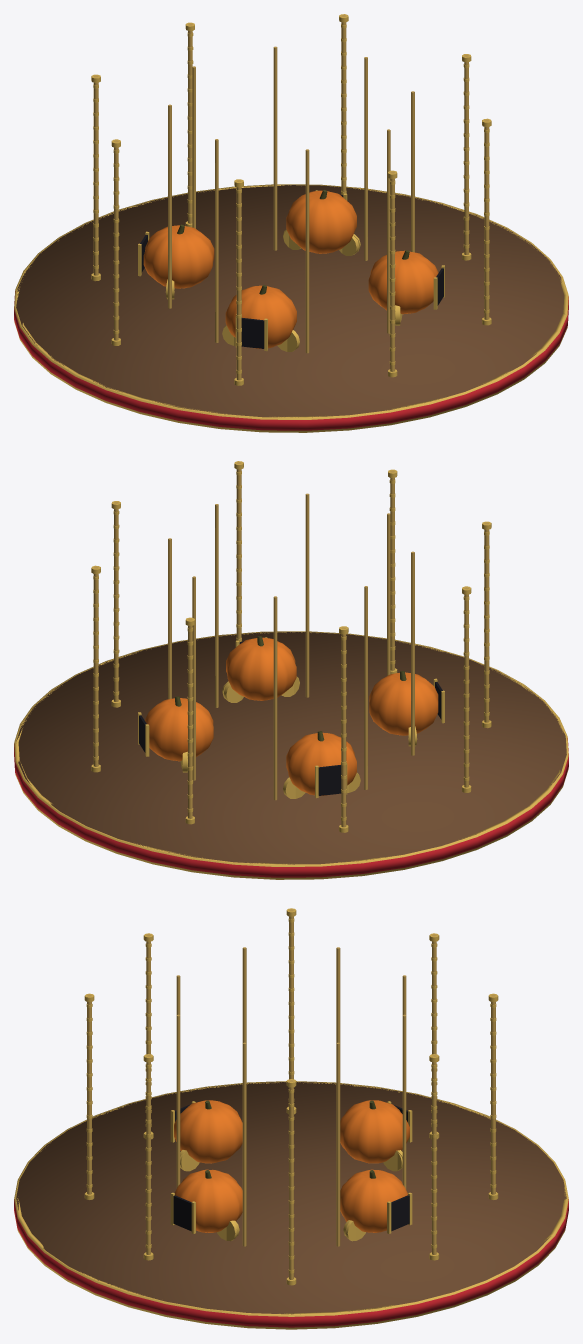
The model's file is hg-carousel-ride.glb.
3 renders of one model, top to bottom at view 1: azimuth 30°, elevation 25°; view 2: azimuth 150°, elevation 25°; view 3: azimuth 270°, elevation 25°, orthographic.
Visible parts, largest first — view 1: hg-carousel-ride; view 2: hg-carousel-ride; view 3: hg-carousel-ride.
Part boxes in pixels (<box>): hg-carousel-ride: <box>14,14,568,432</box>; hg-carousel-ride: <box>14,461,568,879</box>; hg-carousel-ride: <box>14,908,568,1329</box>.
Bounding box in the file's own units: 9.07 × 3.91 × 9.07.
